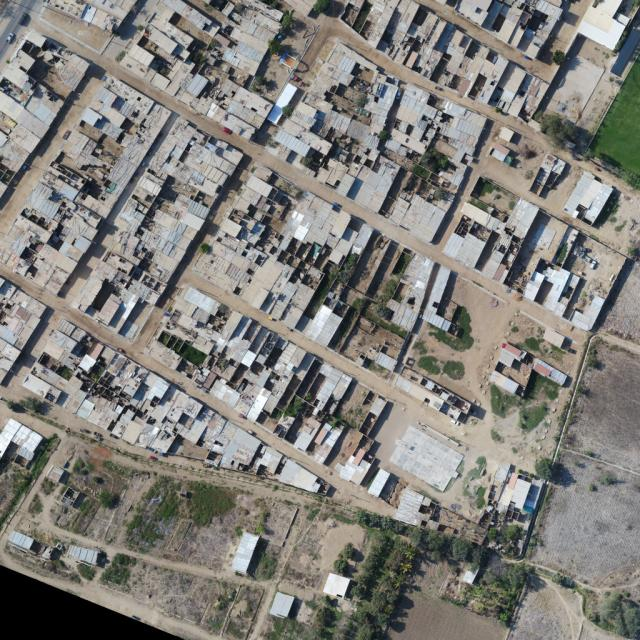building: (22, 318, 267, 503), (66, 115, 244, 343), (191, 160, 375, 341), (353, 0, 551, 139), (0, 159, 118, 296), (179, 304, 308, 429), (386, 82, 489, 170), (92, 100, 173, 211), (301, 40, 379, 125), (505, 210, 570, 297), (388, 424, 467, 494), (481, 198, 541, 285), (391, 366, 474, 425), (1, 277, 47, 382), (274, 99, 344, 167), (383, 251, 440, 332), (479, 461, 548, 527), (205, 77, 274, 142), (207, 18, 272, 77), (31, 38, 91, 92), (421, 266, 468, 333), (95, 74, 155, 126), (355, 71, 402, 136), (563, 171, 615, 228), (353, 154, 402, 214), (57, 128, 111, 179), (397, 193, 448, 245), (576, 6, 627, 51), (162, 0, 220, 38), (118, 52, 171, 92), (525, 151, 567, 200), (276, 459, 324, 500), (306, 418, 345, 466), (394, 486, 436, 530), (308, 367, 344, 417), (568, 289, 606, 334), (409, 201, 447, 245), (6, 529, 56, 562), (459, 201, 505, 234), (161, 56, 196, 98), (150, 14, 193, 48), (181, 286, 221, 321), (425, 265, 452, 314), (87, 96, 127, 129), (230, 531, 259, 575), (146, 339, 184, 372), (455, 232, 487, 270), (529, 357, 569, 387), (337, 452, 371, 487), (544, 267, 570, 312), (291, 416, 322, 453), (252, 444, 285, 478), (314, 312, 344, 349), (304, 304, 333, 341), (495, 341, 528, 372), (146, 26, 179, 56), (487, 368, 521, 396), (438, 158, 469, 188), (320, 158, 350, 189), (322, 108, 353, 135), (93, 115, 124, 141), (386, 196, 412, 227), (521, 270, 546, 302), (322, 572, 350, 600), (366, 467, 391, 498), (268, 591, 294, 620), (127, 43, 156, 69), (460, 203, 491, 227), (66, 545, 98, 567), (338, 0, 364, 27), (329, 372, 353, 401), (272, 412, 296, 440), (309, 96, 334, 122), (346, 120, 373, 144), (263, 140, 292, 162), (560, 272, 582, 301), (442, 232, 465, 259), (111, 95, 136, 119), (172, 296, 198, 319), (186, 73, 209, 98), (357, 411, 379, 437), (432, 138, 458, 159), (335, 172, 356, 198), (94, 86, 118, 108), (313, 422, 334, 447), (195, 325, 222, 344), (80, 107, 103, 128), (374, 352, 398, 372), (346, 177, 365, 201), (192, 336, 214, 354), (192, 307, 212, 326), (177, 314, 198, 332), (363, 133, 382, 152), (293, 314, 311, 333), (172, 45, 190, 62), (351, 448, 367, 466), (356, 165, 372, 183), (498, 126, 514, 143), (436, 196, 453, 212), (316, 167, 330, 185), (221, 1, 236, 17), (354, 149, 369, 165), (347, 161, 362, 177), (306, 266, 323, 280), (319, 363, 334, 378), (367, 147, 381, 163), (553, 302, 567, 318), (453, 149, 465, 163), (131, 43, 143, 55), (559, 296, 570, 306), (359, 145, 368, 154)
dryland: (402, 271, 590, 442), (525, 384, 579, 453), (37, 4, 113, 53), (27, 55, 78, 102), (75, 119, 105, 143), (99, 135, 125, 157), (124, 121, 139, 136)
greenland: (333, 527, 422, 640), (459, 548, 532, 626), (401, 524, 492, 572), (586, 585, 640, 640), (352, 508, 408, 536), (492, 519, 525, 555)
metalled_road: (103, 31, 132, 62)
unmetalled_road: (0, 260, 396, 531), (185, 271, 467, 438), (0, 60, 111, 237), (415, 0, 559, 83), (132, 305, 167, 353), (595, 330, 640, 354)
